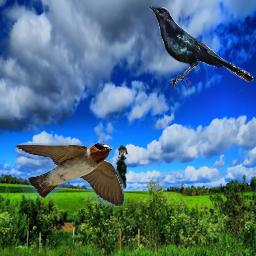Crow: (148, 6, 254, 88)
Swallow: (14, 143, 125, 207)
